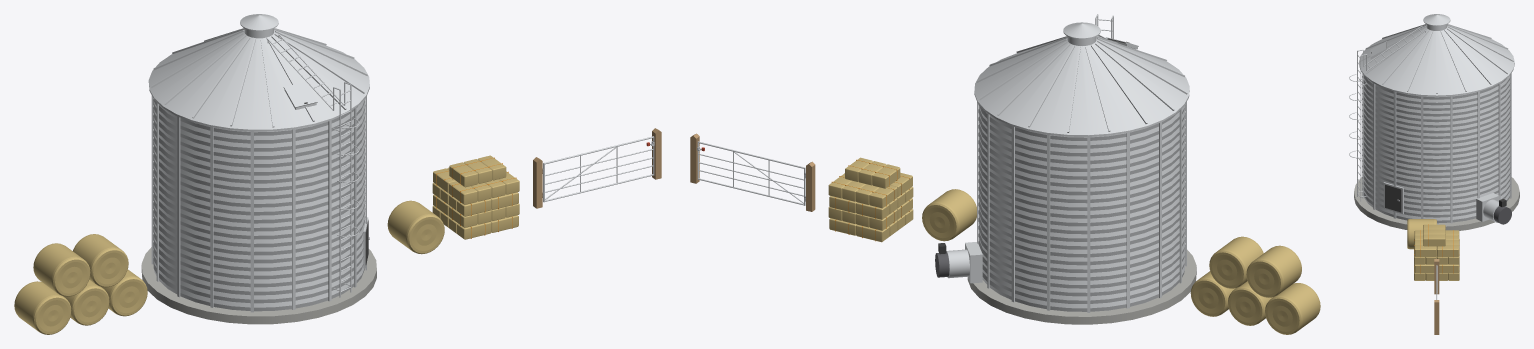
The model's file is farm_props.glb.
3 renders of one model, left to right at view 1: azimuth 30°, elevation 25°; view 2: azimuth 150°, elevation 25°; view 3: azimuth 270°, elevation 25°, orthographic. The views are drawn at different scales.
Parts seen in each view (by area): view 1: grain_bin, round_bale_stack, small_square_bale_stack, round_bale, gate_rotate, field_gate, hatch_rotate; view 2: grain_bin, round_bale_stack, small_square_bale_stack, round_bale, gate_rotate, field_gate; view 3: grain_bin, small_square_bale_stack, field_gate, round_bale, hatch_rotate.
Boxes of the visible parts, left/top/right/bottom form: grain_bin: left=141, top=14, right=376, bottom=324; round_bale_stack: left=14, top=234, right=147, bottom=334; small_square_bale_stack: left=432, top=155, right=519, bottom=239; round_bale: left=387, top=200, right=444, bottom=254; gate_rotate: left=542, top=136, right=654, bottom=202; field_gate: left=533, top=128, right=661, bottom=208; hatch_rotate: left=283, top=81, right=317, bottom=107; grain_bin: left=935, top=14, right=1196, bottom=324; round_bale_stack: left=1190, top=236, right=1320, bottom=334; small_square_bale_stack: left=828, top=157, right=913, bottom=242; round_bale: left=922, top=189, right=976, bottom=241; gate_rotate: left=697, top=141, right=805, bottom=205; field_gate: left=690, top=133, right=815, bottom=211; grain_bin: left=1349, top=14, right=1519, bottom=230; small_square_bale_stack: left=1414, top=224, right=1459, bottom=280; field_gate: left=1434, top=259, right=1439, bottom=334; round_bale: left=1407, top=219, right=1436, bottom=249; hatch_rotate: left=1370, top=41, right=1386, bottom=57.
Size of the model in its own units: 20.87 by 8.14 by 6.89.
10 materials, 10 textured.
